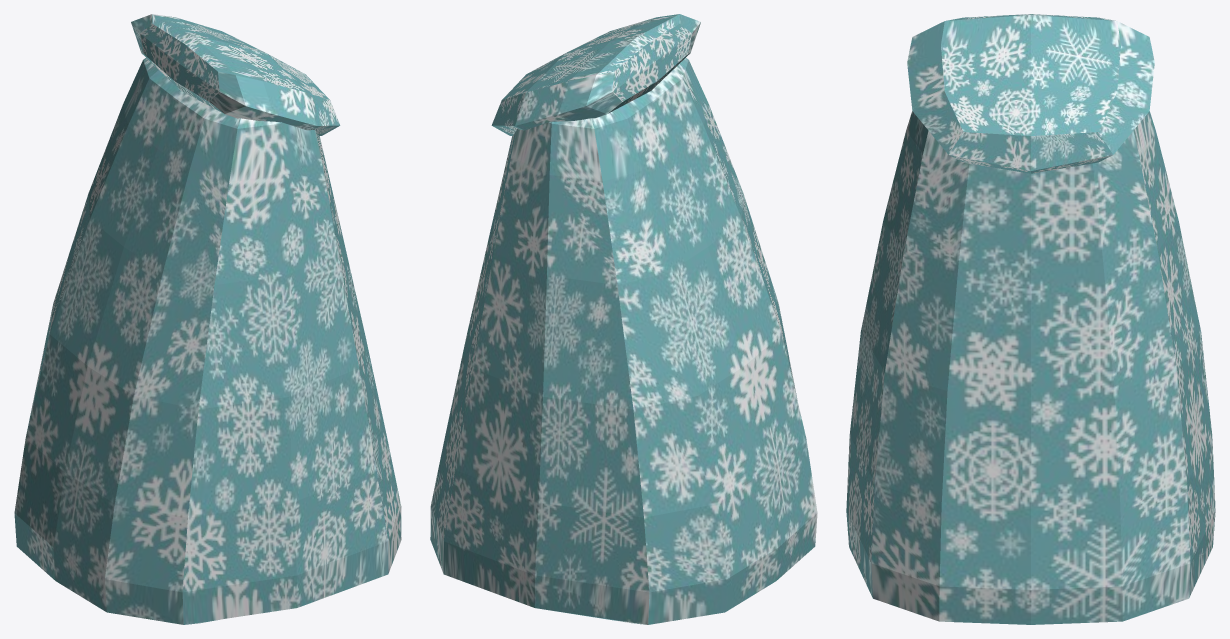
Rendered from BagGift.glb.
3 renders of one model, left to right at view 1: azimuth 30°, elevation 25°; view 2: azimuth 150°, elevation 25°; view 3: azimuth 270°, elevation 25°, orthographic. The views are drawn at different scales.
Parts seen in each view (by area): view 1: gift_bag_merged; view 2: gift_bag_merged; view 3: gift_bag_merged.
Part boxes in pixels (bbox=[...]): gift_bag_merged: bbox=[14, 14, 401, 624]; gift_bag_merged: bbox=[430, 14, 817, 624]; gift_bag_merged: bbox=[846, 14, 1215, 624].
Size of the model in its own units: 1.87 by 3.01 by 1.87.
Materials: 1 (1 with a texture image).
